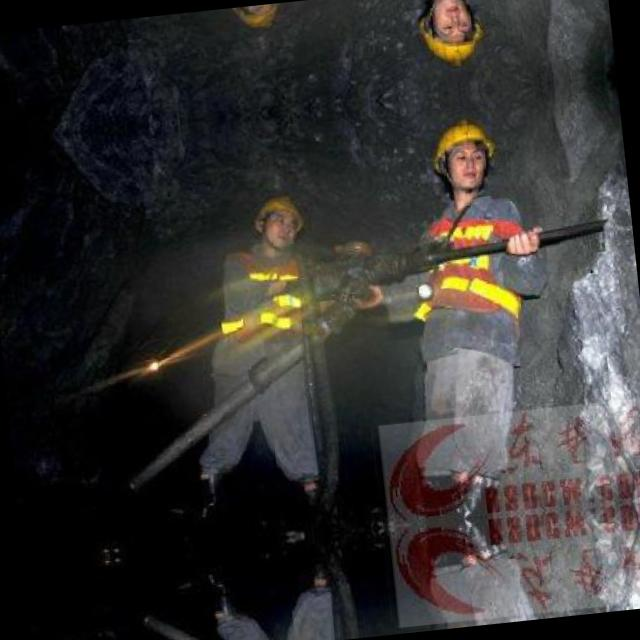helmet: (423, 107, 501, 200), (409, 0, 487, 74), (248, 186, 308, 253), (228, 2, 286, 37)
